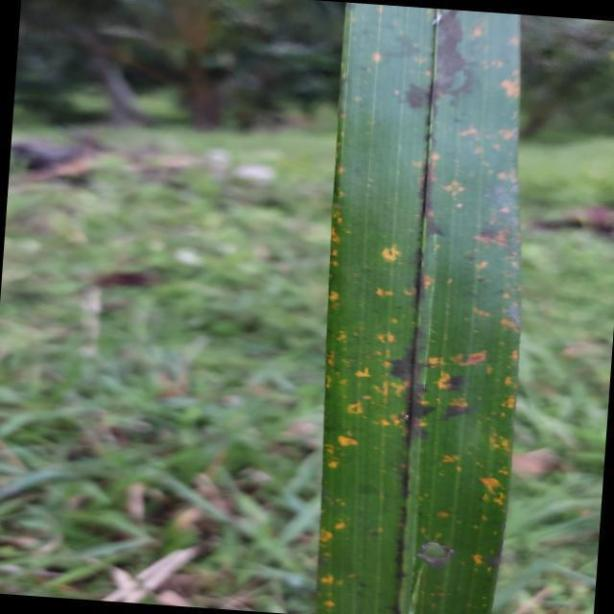Healthy: (317, 0, 518, 614)
